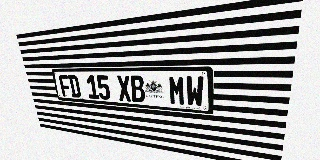1: (85, 75, 100, 99)
5: (96, 75, 111, 100)
B: (129, 75, 146, 103)
D: (68, 75, 81, 98)
F: (58, 75, 72, 97)
M: (168, 76, 186, 106)
W: (186, 76, 204, 107)
X: (116, 75, 132, 102)
